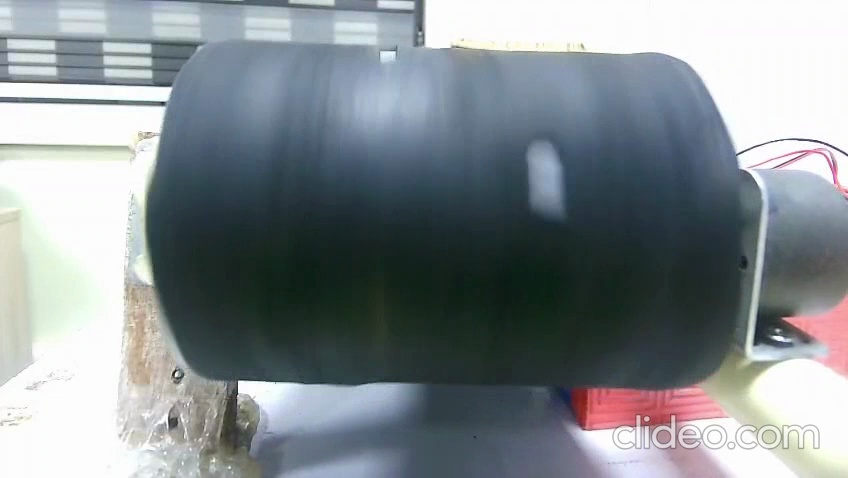hole: (532, 151, 558, 195), (373, 50, 401, 68)
